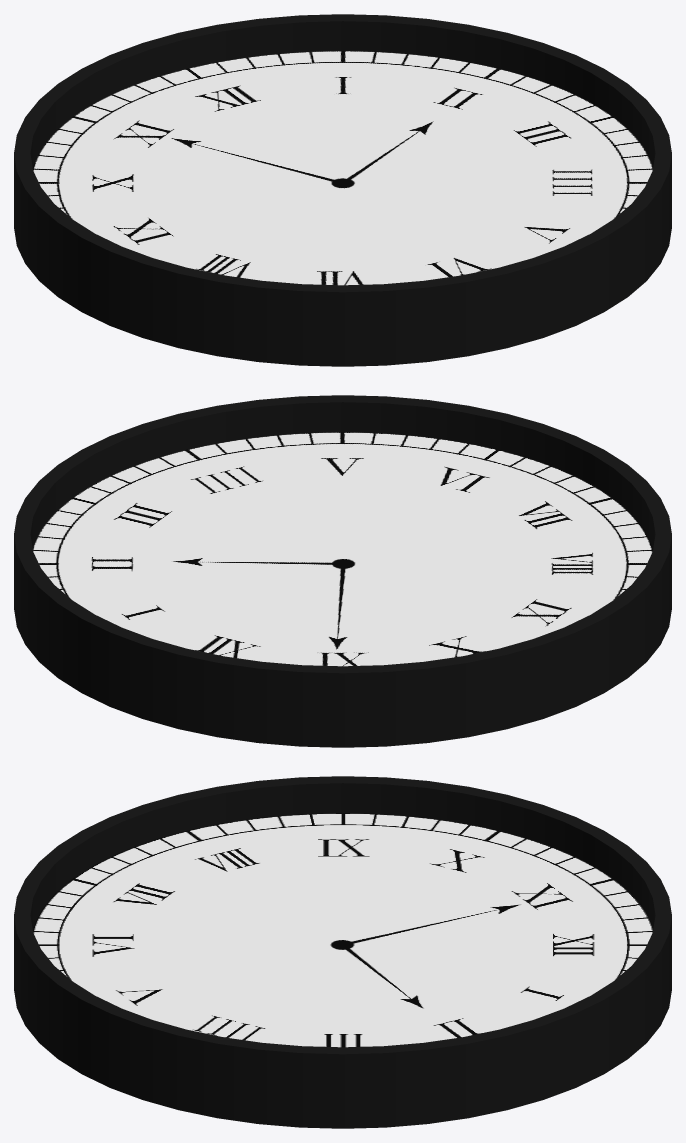
File: clock.fbx
The picture shows the model from 3 angles, top to bottom: view 1: azimuth 30°, elevation 25°; view 2: azimuth 150°, elevation 25°; view 3: azimuth 270°, elevation 25°; orthographic projection.
Parts seen in each view (by area): view 1: P_clock; view 2: P_clock; view 3: P_clock.
Boxes of the visible parts, x1=… form: P_clock: x1=14, y1=14, x2=671, y2=366; P_clock: x1=14, y1=395, x2=671, y2=747; P_clock: x1=14, y1=776, x2=671, y2=1128.
Size of the model in its own units: 40 by 5 by 40.
